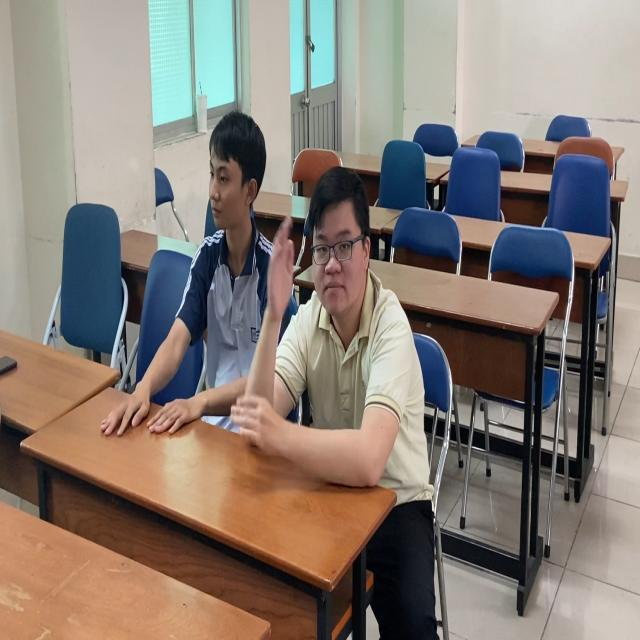raise_hand: (260, 161, 426, 490)
